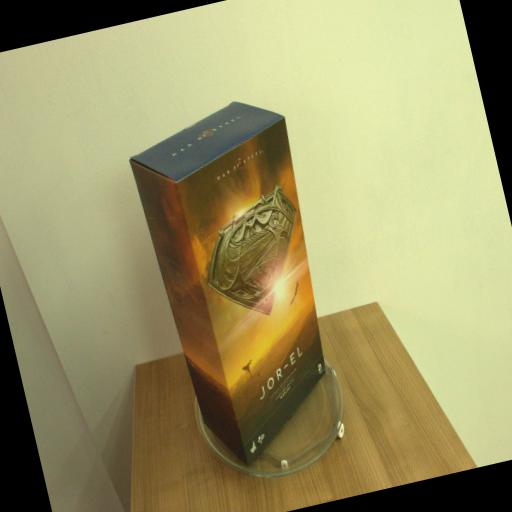superman: (124, 92, 360, 467)
